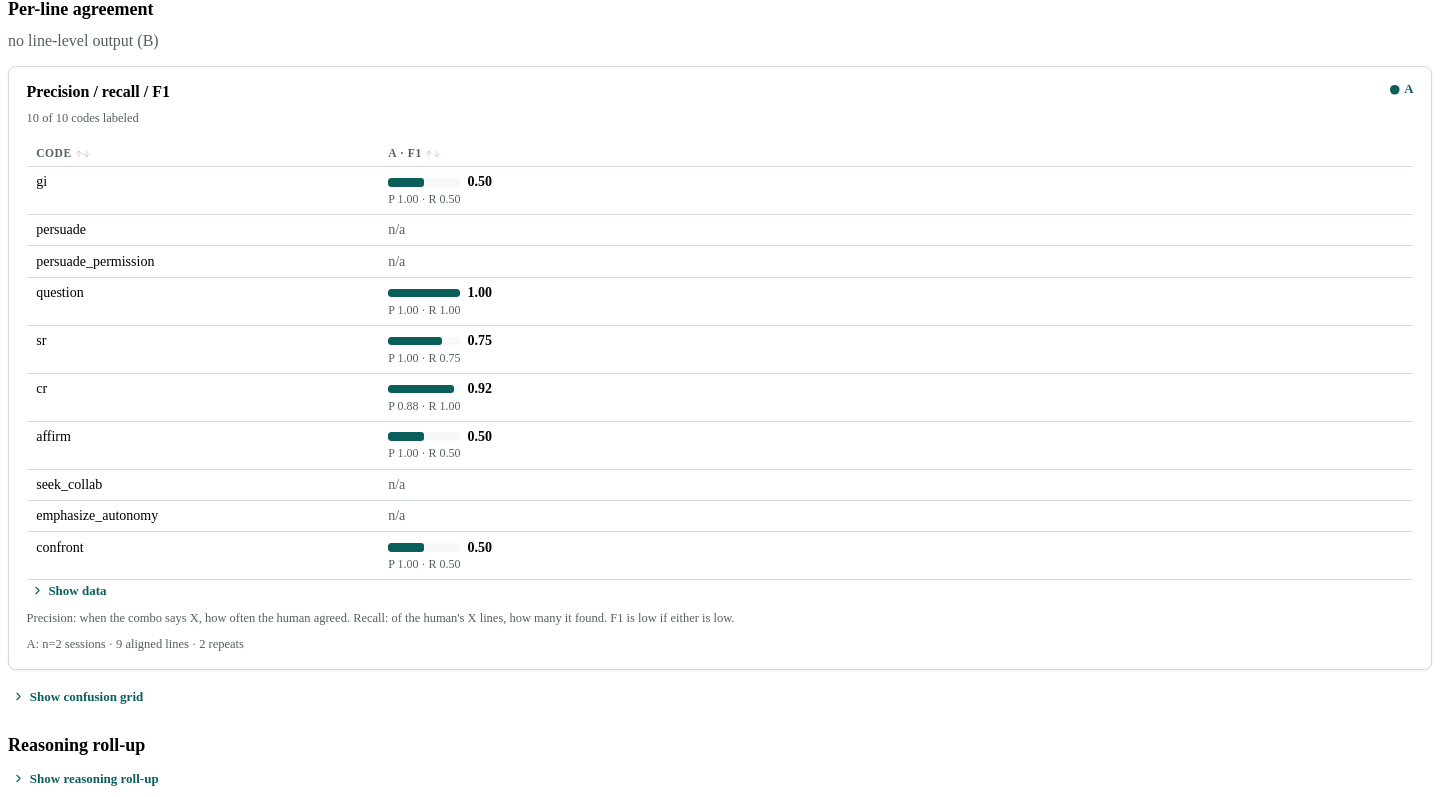
Scenario: keeps roll-up and P/R/F1 twin collapsed; reasoning loads only when a code is expanded
(page scrolled)
Click the button "Show reasoning roll-up" at [85, 779], box 8,768 -> 163,789
(page scrolled)
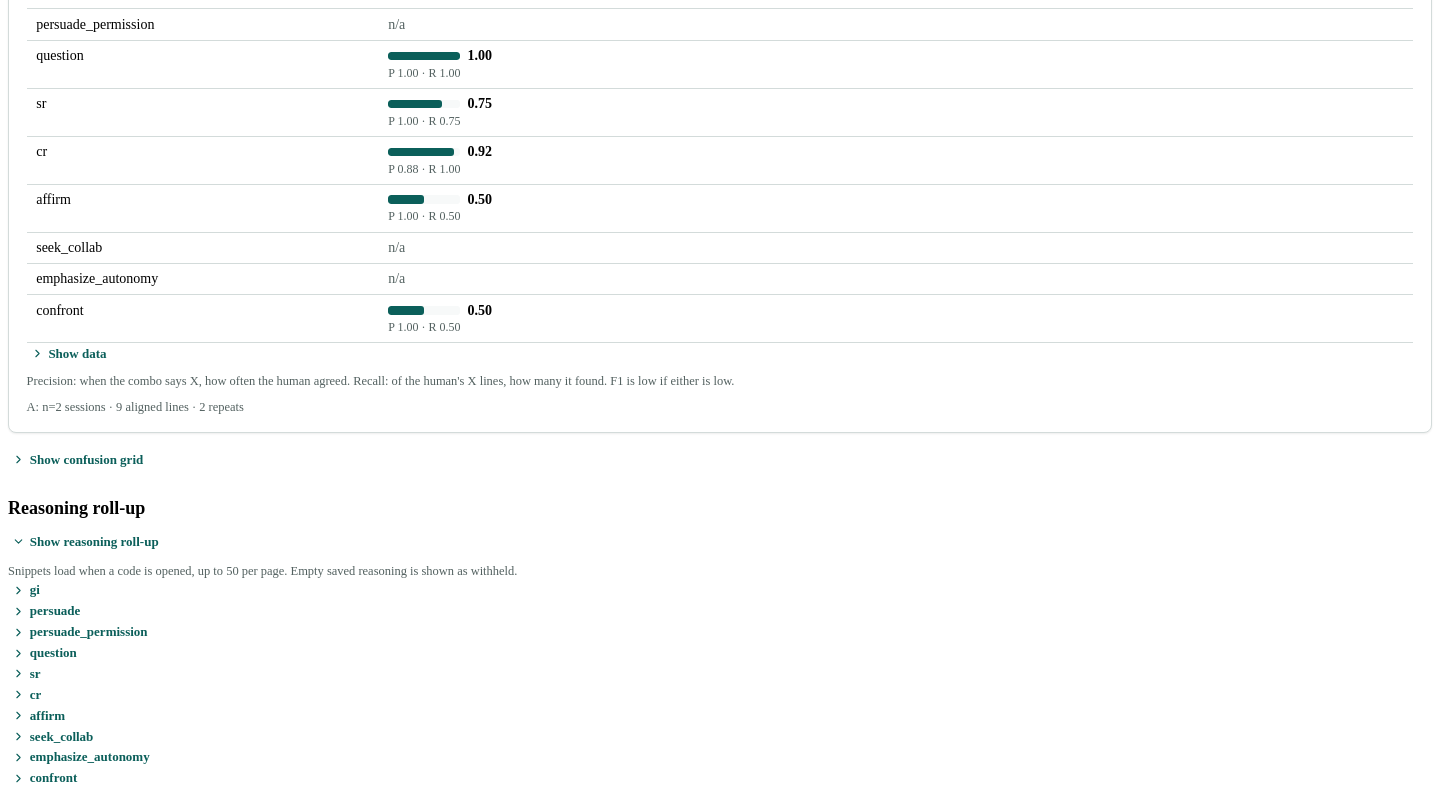
Click the button "question" at [44, 653], box 8,643 -> 81,663
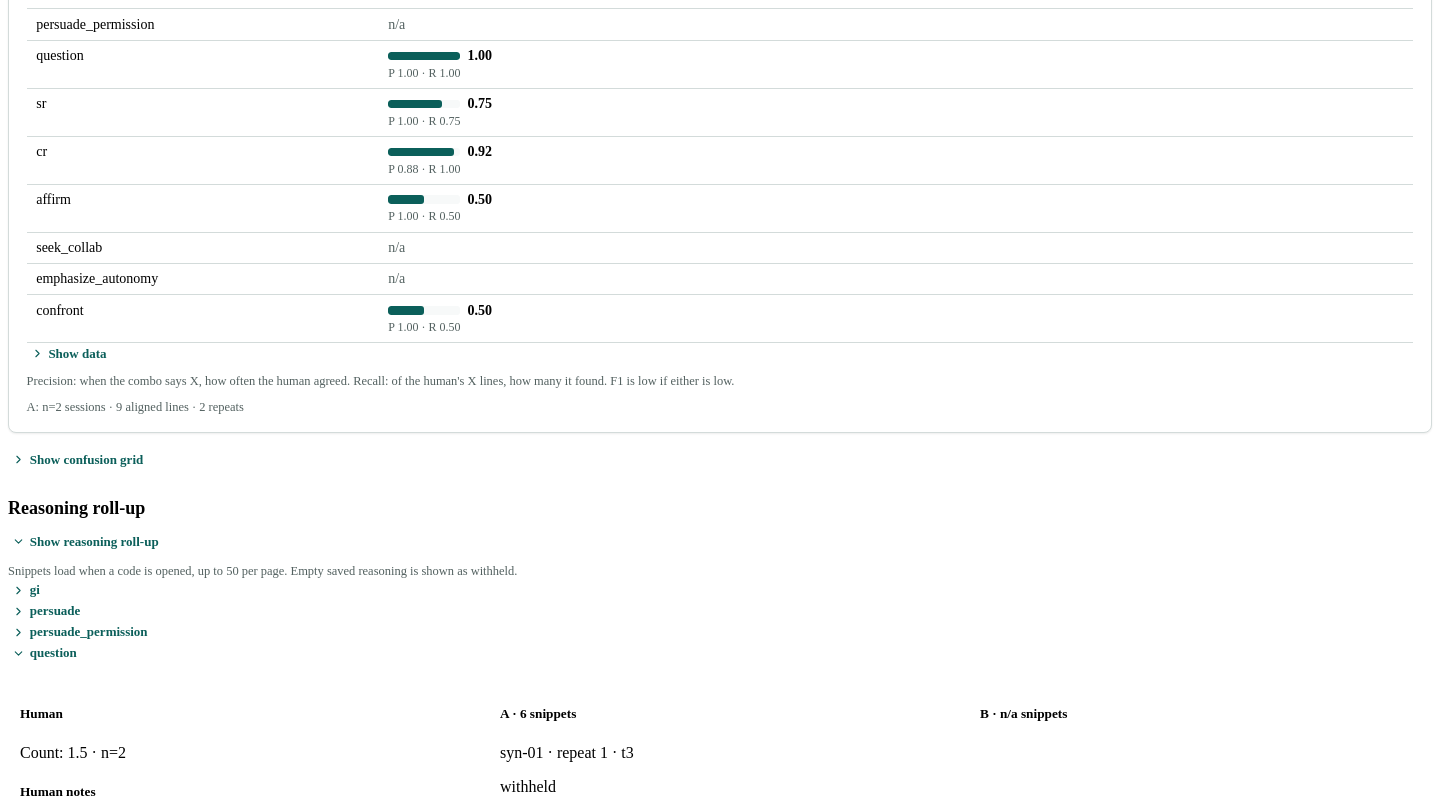
Click the button "Show data" at [69, 354], box 27,343 -> 111,364
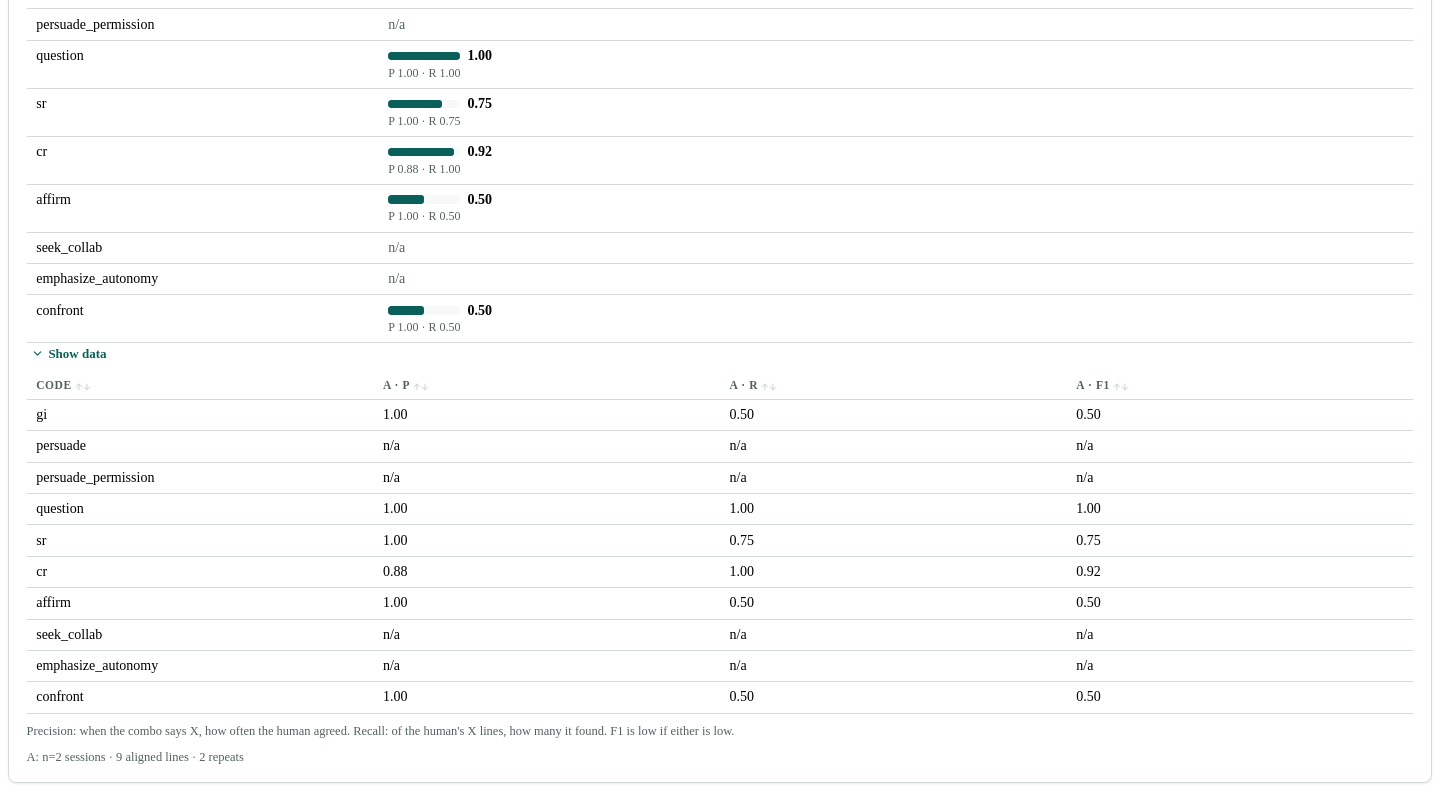
Result: the table named "P/R/F1 data" shows "F1" at 1076,380 -> 1110,392
